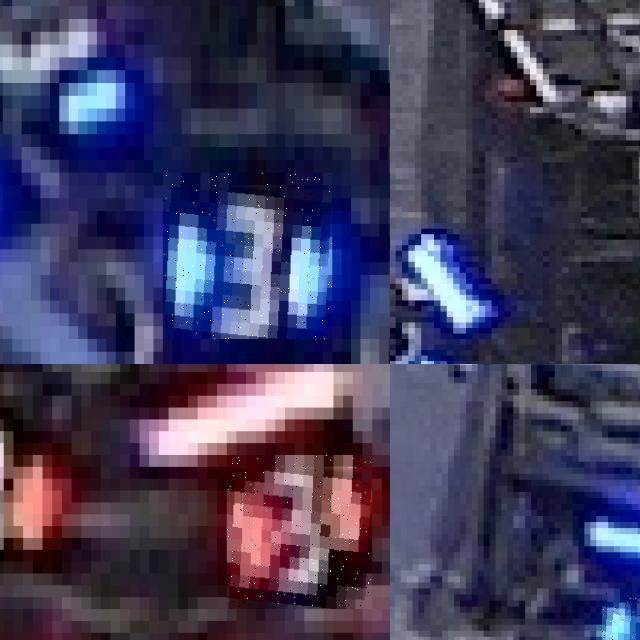B2: (390, 311, 446, 364)
B3: (163, 173, 332, 339)
R3: (227, 455, 372, 609), (0, 419, 52, 561)
